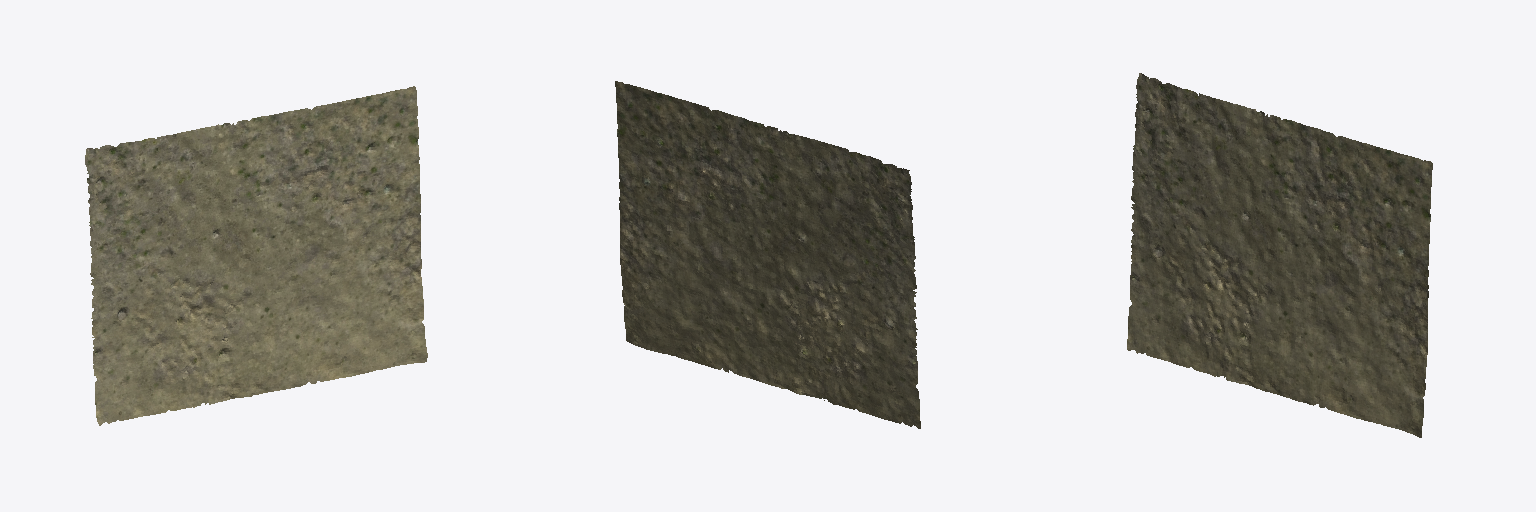
The picture shows the model from 3 angles: view 1: azimuth 30°, elevation 25°; view 2: azimuth 150°, elevation 25°; view 3: azimuth 330°, elevation 25°; orthographic projection.
Size of the model in its own units: 2.07 by 1.7 by 0.3382.
1 materials, 1 textured.